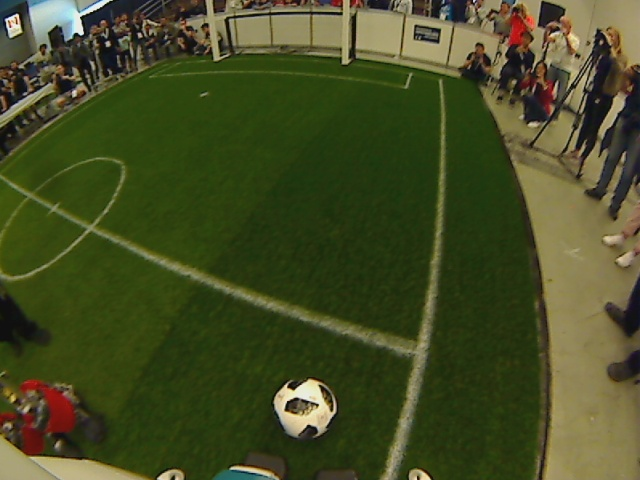ball: (272, 377, 338, 440)
goalpost: (206, 1, 350, 66)
robot: (1, 365, 102, 463)
